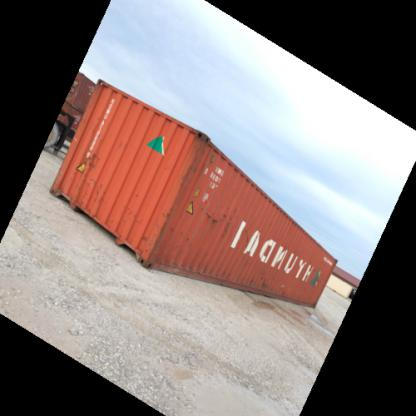Damage: (170, 124, 212, 192), (200, 200, 241, 236), (158, 212, 187, 246), (78, 176, 107, 201), (133, 226, 154, 255), (246, 271, 276, 289), (83, 146, 101, 173)
